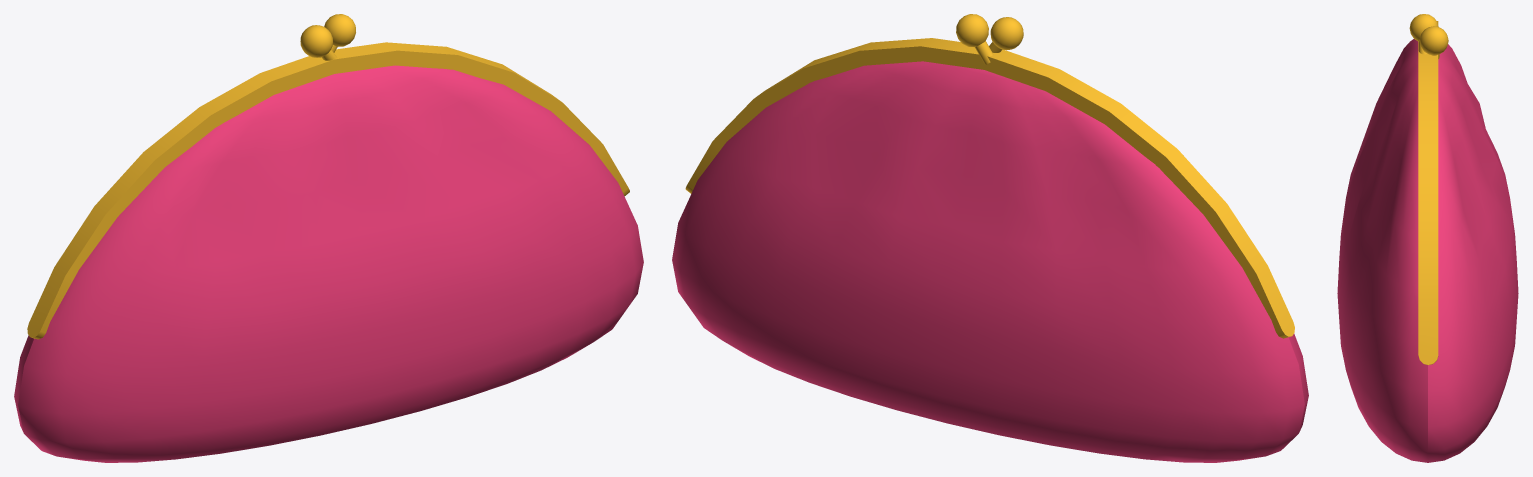
File: purse.glb
The picture shows the model from 3 angles, left to right: view 1: azimuth 30°, elevation 25°; view 2: azimuth 150°, elevation 25°; view 3: azimuth 270°, elevation 25°; orthographic projection. The views are drawn at different scales.
Parts seen in each view (by area): view 1: Sphere.356; view 2: Sphere.356; view 3: Sphere.356.
Boxes of the visible parts, x1=… form: Sphere.356: x1=14, y1=14, x2=643, y2=462; Sphere.356: x1=672, y1=14, x2=1308, y2=462; Sphere.356: x1=1337, y1=14, x2=1518, y2=462.
Size of the model in its own units: 2.18 by 1.25 by 0.6214.
1 material, 1 textured.
